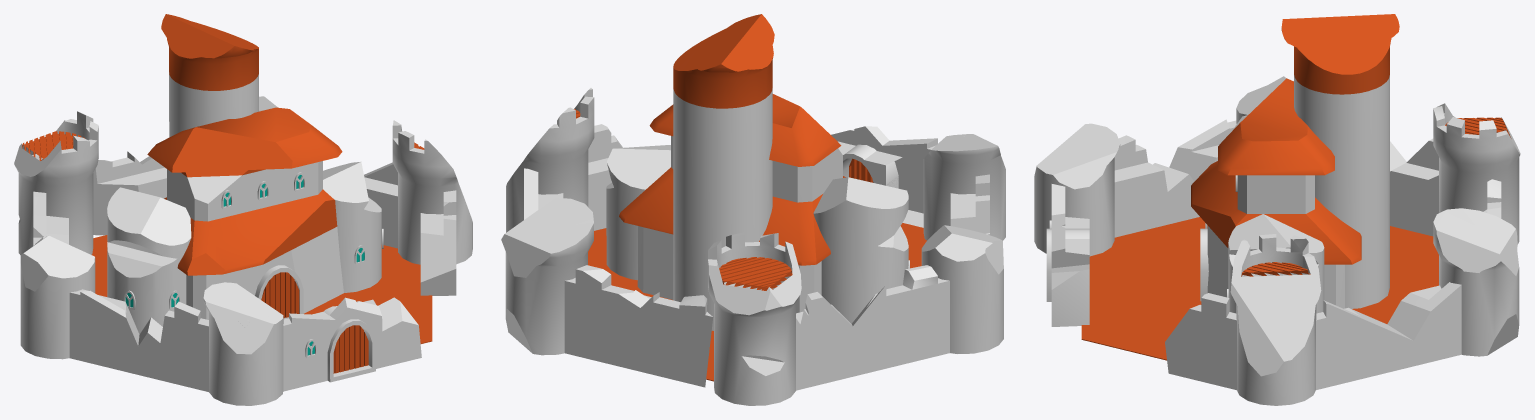
The model's file is CS_Hexagon_Castle_Stage03.fbx.
3 renders of one model, left to right at view 1: azimuth 30°, elevation 25°; view 2: azimuth 150°, elevation 25°; view 3: azimuth 270°, elevation 25°, orthographic. The views are drawn at different scales.
Parts seen in each view (by area): view 1: Hexagon_Castle_Stage3; view 2: Hexagon_Castle_Stage3; view 3: Hexagon_Castle_Stage3.
Boxes of the visible parts, x1,y1,x2,y2 form: Hexagon_Castle_Stage3: [14, 14, 472, 405]; Hexagon_Castle_Stage3: [501, 14, 1005, 405]; Hexagon_Castle_Stage3: [1034, 14, 1520, 405].
Size of the model in its own units: 1106 by 600 by 989.
